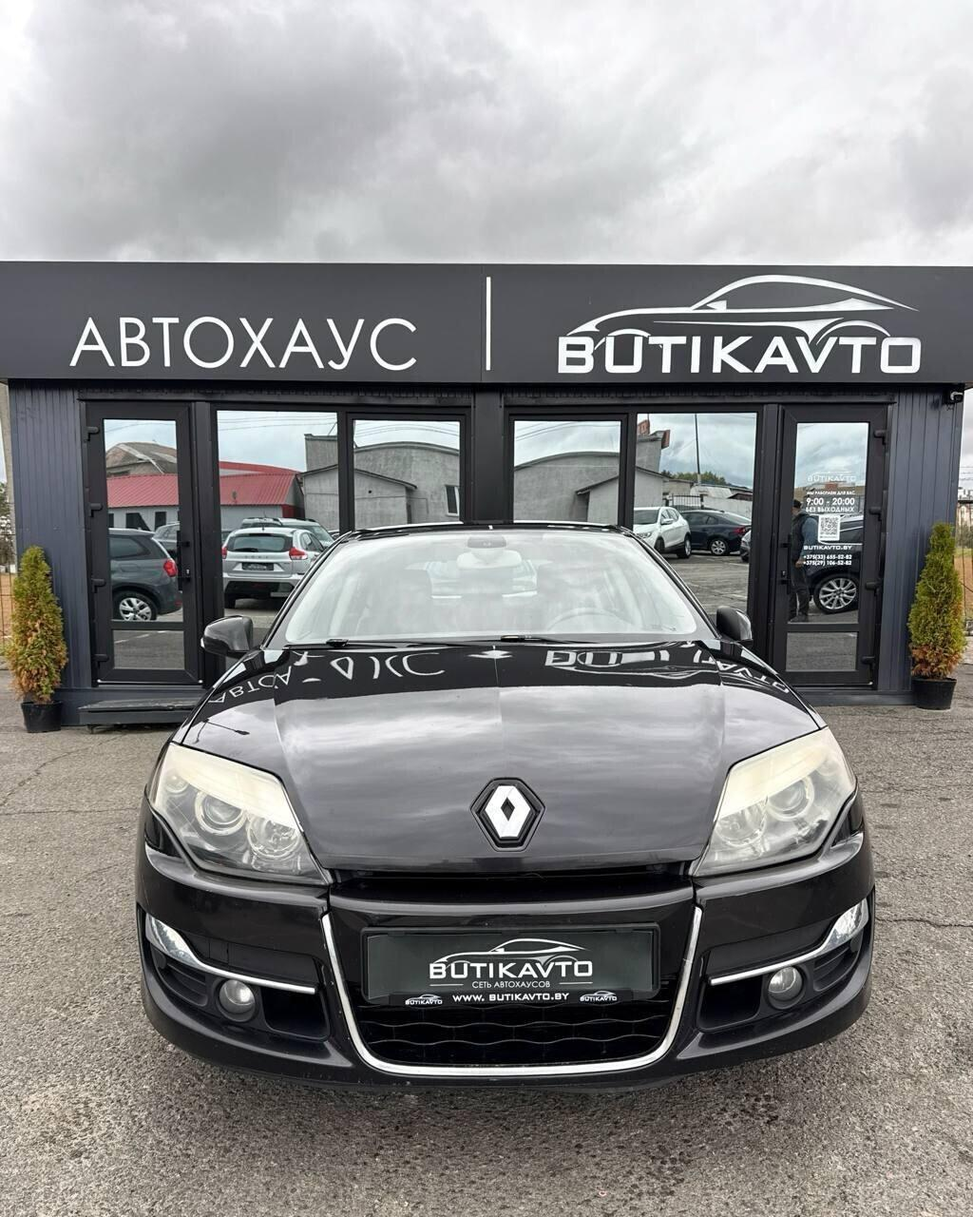Laguna_2010-2015: (119, 518, 890, 1092)
